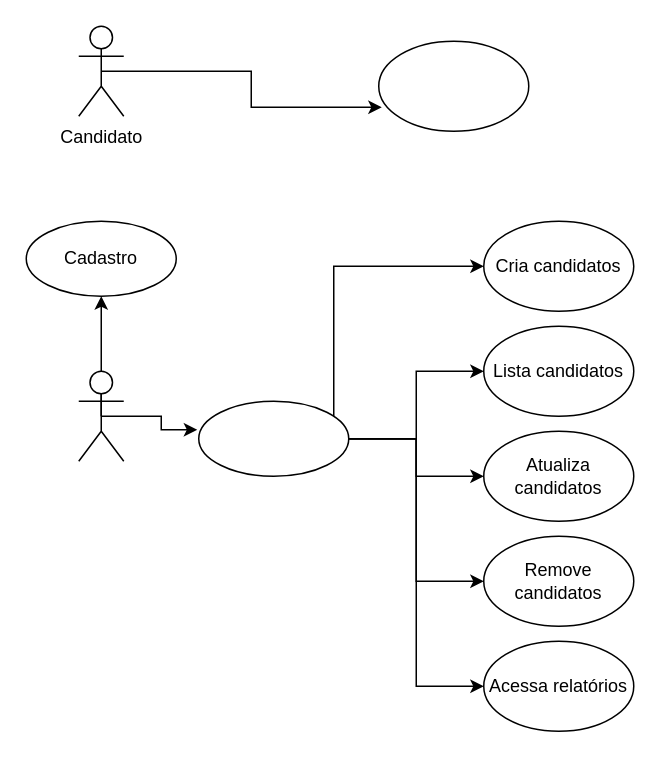
Image size: 660x758. Some labels were removed from this diagram. The shapes that lost their labels are listed below. From the top down, each one's box as (x1, y1, x2, y2) in pixels, then its label:
(377, 40, 529, 131): Envia cadastro
(77, 370, 124, 461): Administrador
(197, 400, 349, 476): Login
